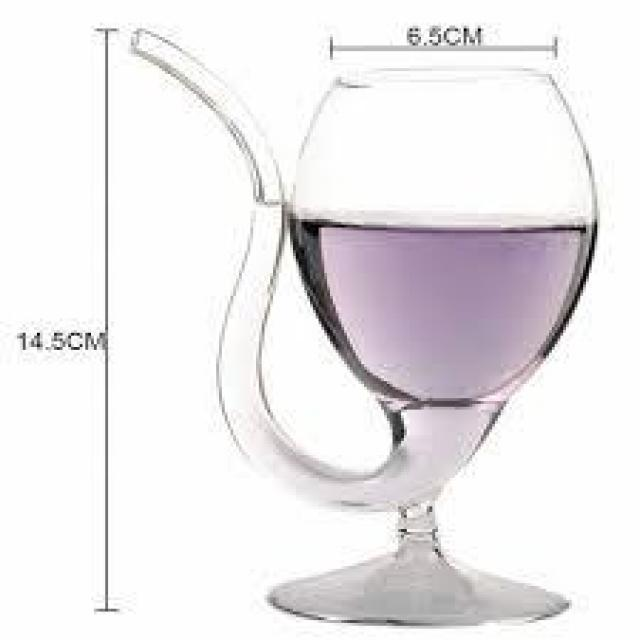non-organic waste: (122, 27, 603, 627)
